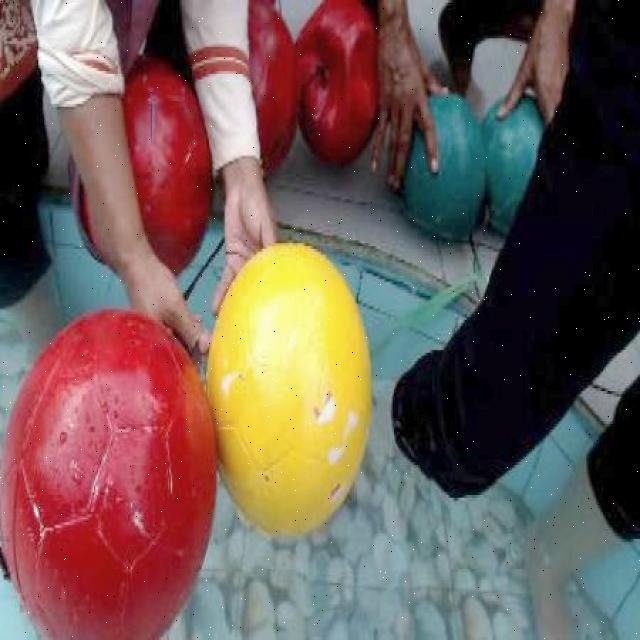buoy: (1, 309, 218, 637), (205, 240, 371, 536), (120, 54, 213, 276), (293, 0, 381, 166), (405, 89, 484, 240), (479, 94, 545, 235)
